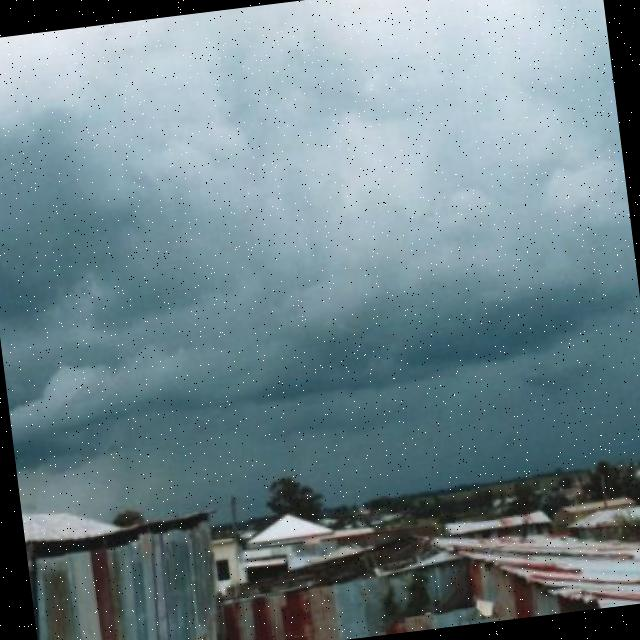Sc: (1, 1, 640, 481)
